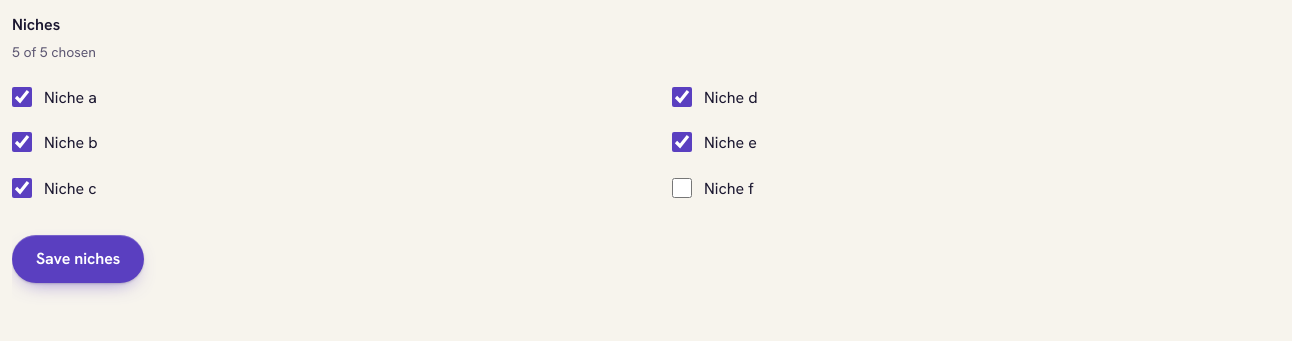
Scenario: the picker and the consent › focuses the count error when more than five are chosen
Click the checkbox labelled "Niche f". click: (682, 188)
box: x1=672 y1=178 x2=692 y2=198
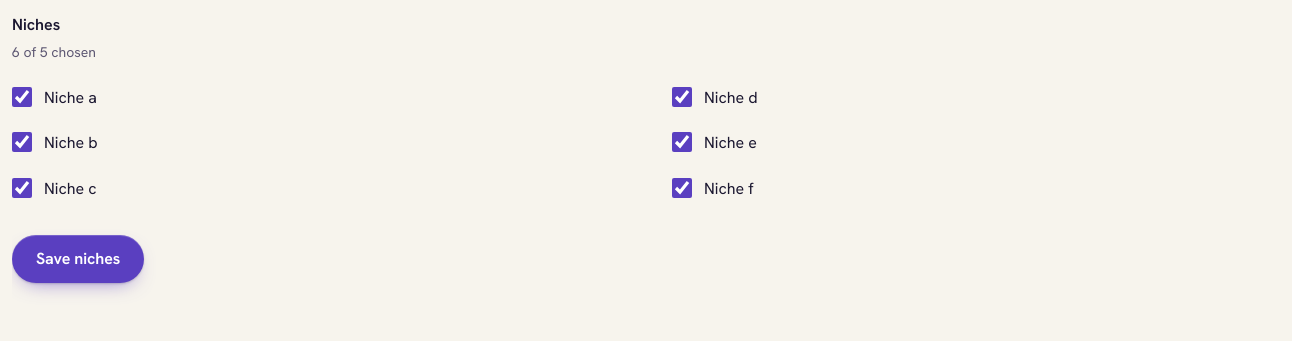
Click the button "Save niches". click: (78, 259)
box: x1=12 y1=235 x2=144 y2=283
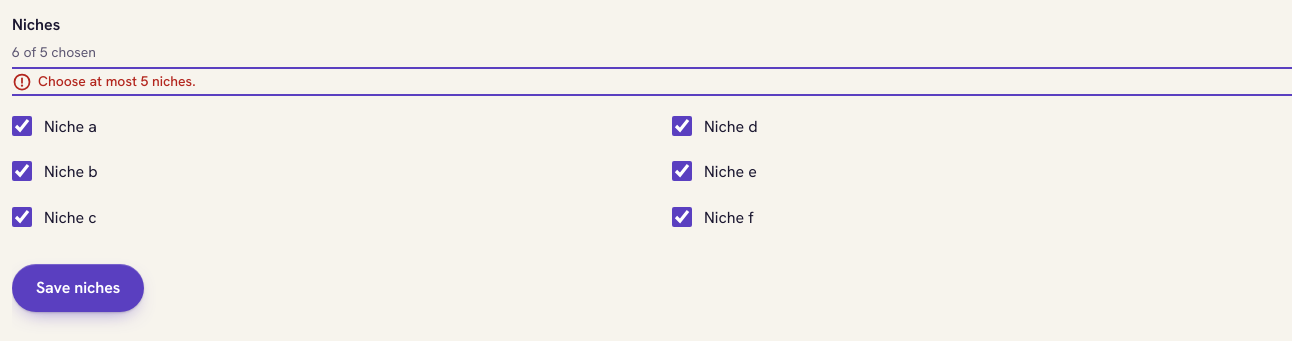
Expected: the message reads "Choose at most 5 niches.", x1=38 y1=72 x2=196 y2=90
